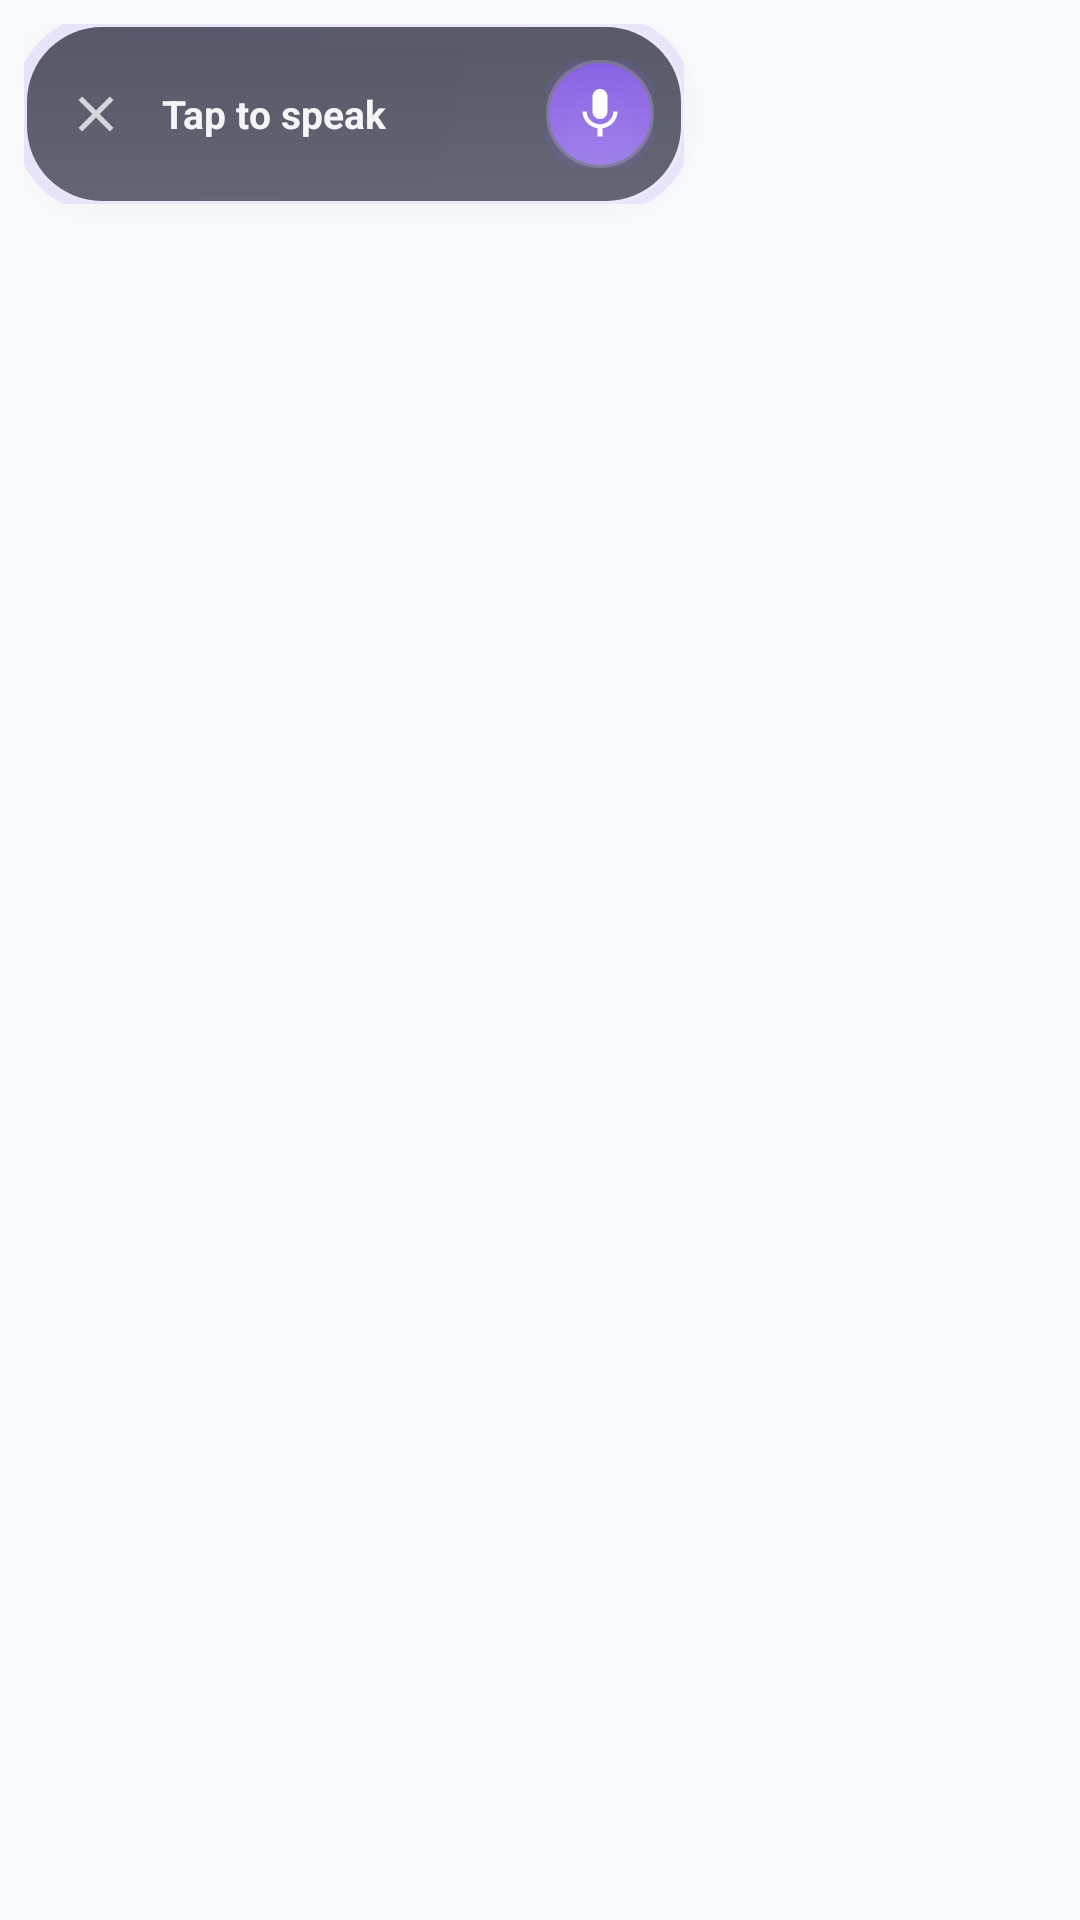

Where to tap for icons on this 1080 x 1920 app screen, as [x,y]:
Close overlay: [96,114]
Microphone button: [600,116]
